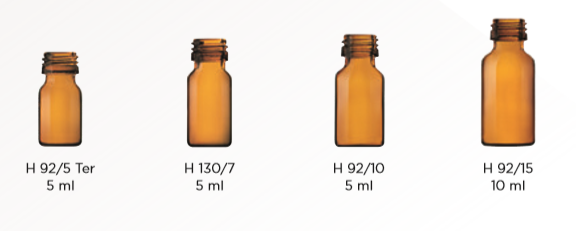glass_bottleww: (11, 22, 134, 231), (314, 6, 408, 206), (161, 18, 251, 223), (463, 9, 543, 213)
